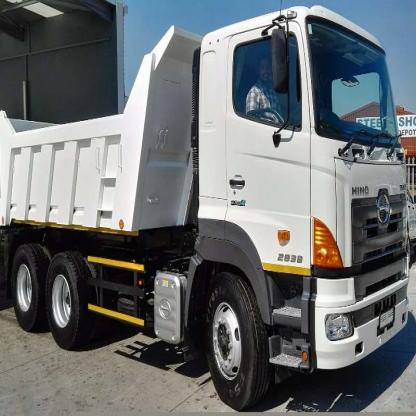dump_truck: (7, 12, 411, 404)
